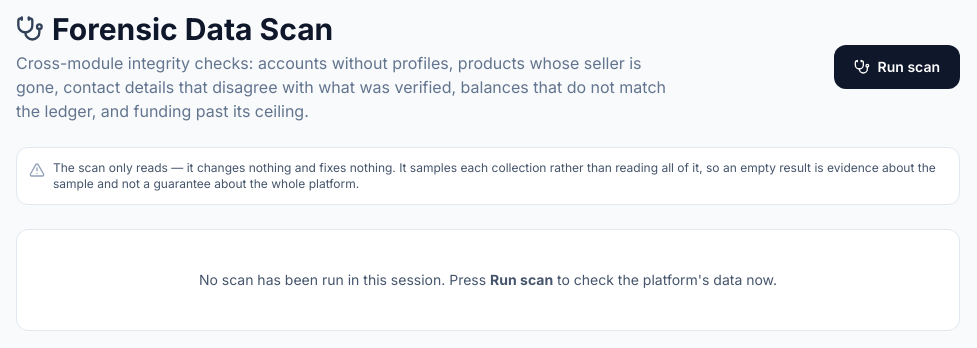
#266 — a refusal is never shown as a clean result › and so does a scan that threw
Click the button "Run scan" at (897,67), box [834,45,960,89]
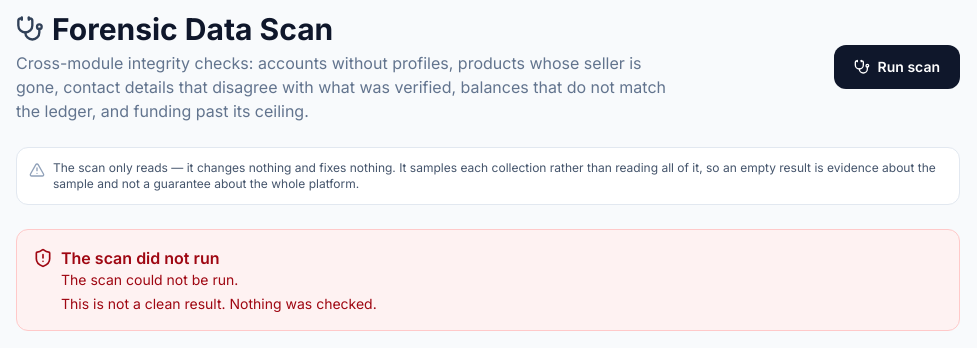
Check: the text "The scan did not run" is shown, box [61,248,220,268]
